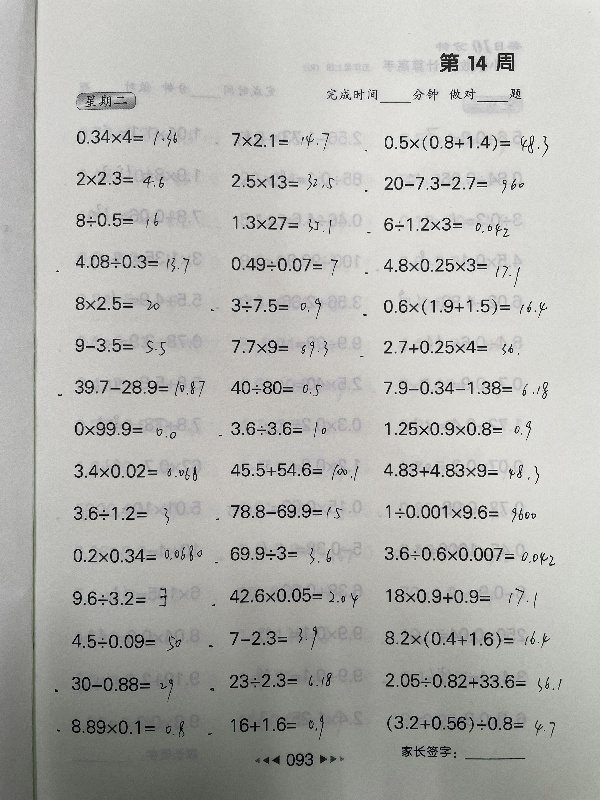equation: (382, 707, 558, 743), (384, 542, 562, 575), (381, 625, 554, 656), (382, 669, 564, 697), (380, 583, 542, 614), (379, 126, 551, 155), (378, 292, 549, 319), (379, 250, 522, 282), (378, 375, 551, 401), (379, 456, 542, 483), (380, 416, 535, 444), (227, 583, 366, 614), (209, 540, 342, 570), (361, 212, 511, 238), (65, 582, 173, 618), (69, 372, 207, 400), (68, 672, 178, 707), (379, 336, 527, 362), (380, 499, 539, 523), (226, 709, 332, 744), (67, 629, 188, 659), (213, 412, 339, 440), (69, 715, 190, 743), (379, 171, 526, 194), (68, 541, 205, 565), (225, 457, 361, 481), (226, 622, 323, 655), (211, 498, 344, 522), (69, 458, 200, 482), (70, 248, 192, 273), (226, 668, 337, 695), (73, 500, 176, 529), (228, 128, 332, 155), (227, 294, 325, 322), (226, 252, 340, 276), (72, 125, 181, 150), (69, 416, 179, 440), (228, 169, 337, 193), (227, 333, 330, 358), (228, 211, 334, 234), (70, 333, 168, 356), (226, 375, 323, 398), (72, 166, 167, 189), (72, 208, 162, 231), (71, 292, 163, 314)
